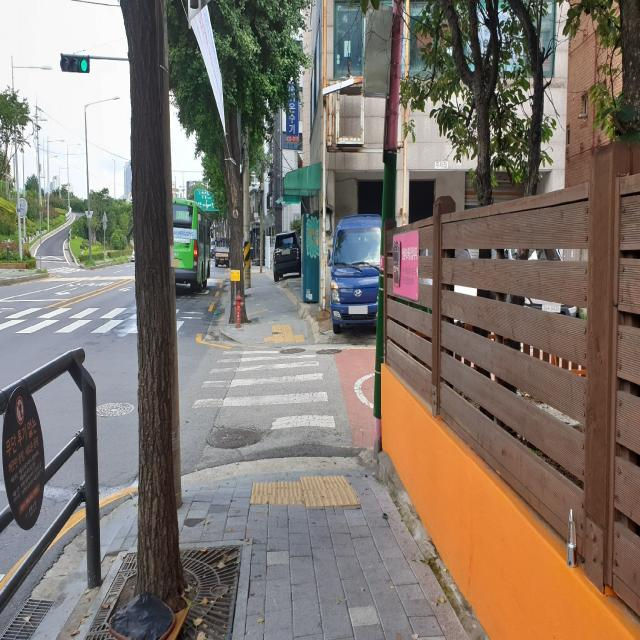횡단보도: (192, 350, 335, 430)
